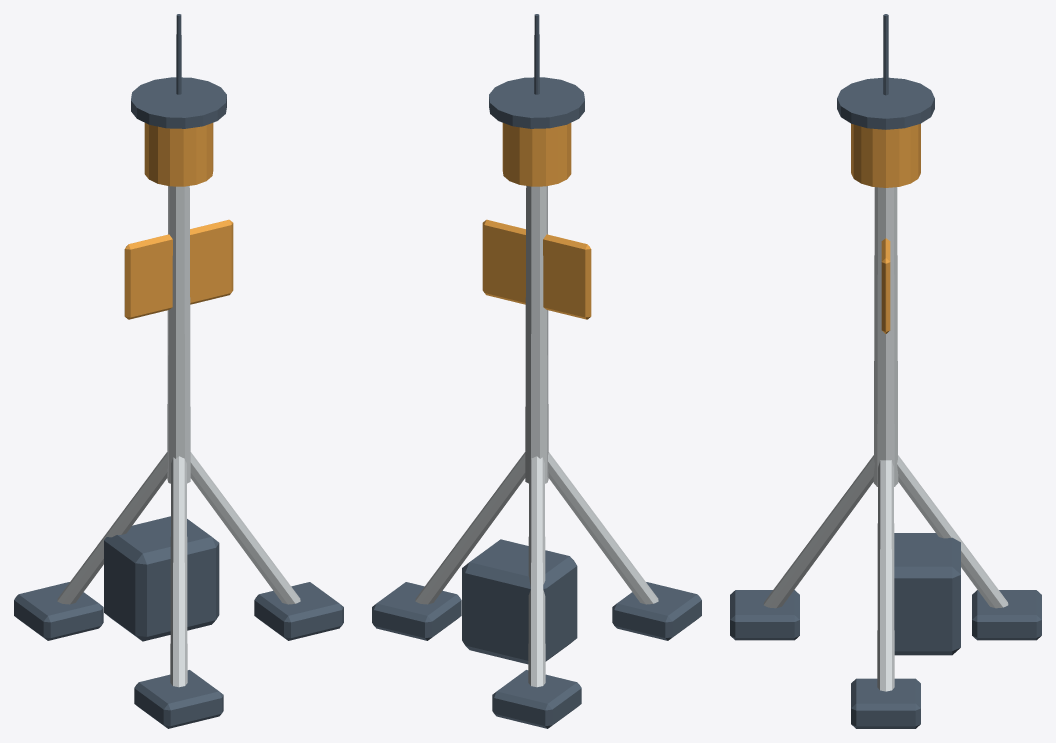
3 views of the same model, side by side, from view 1: azimuth 30°, elevation 25°; view 2: azimuth 150°, elevation 25°; view 3: azimuth 270°, elevation 25° (orthographic).
Visible parts, largest first — view 1: ME-010 Tripod navigation beacon batched; view 2: ME-010 Tripod navigation beacon batched; view 3: ME-010 Tripod navigation beacon batched.
Part boxes in pixels (left/top/right/bottom): ME-010 Tripod navigation beacon batched: left=14, top=14, right=343, bottom=728; ME-010 Tripod navigation beacon batched: left=372, top=14, right=701, bottom=728; ME-010 Tripod navigation beacon batched: left=730, top=14, right=1041, bottom=728.
Bounding box in the file's own units: 0.8 × 2.03 × 0.8928.
